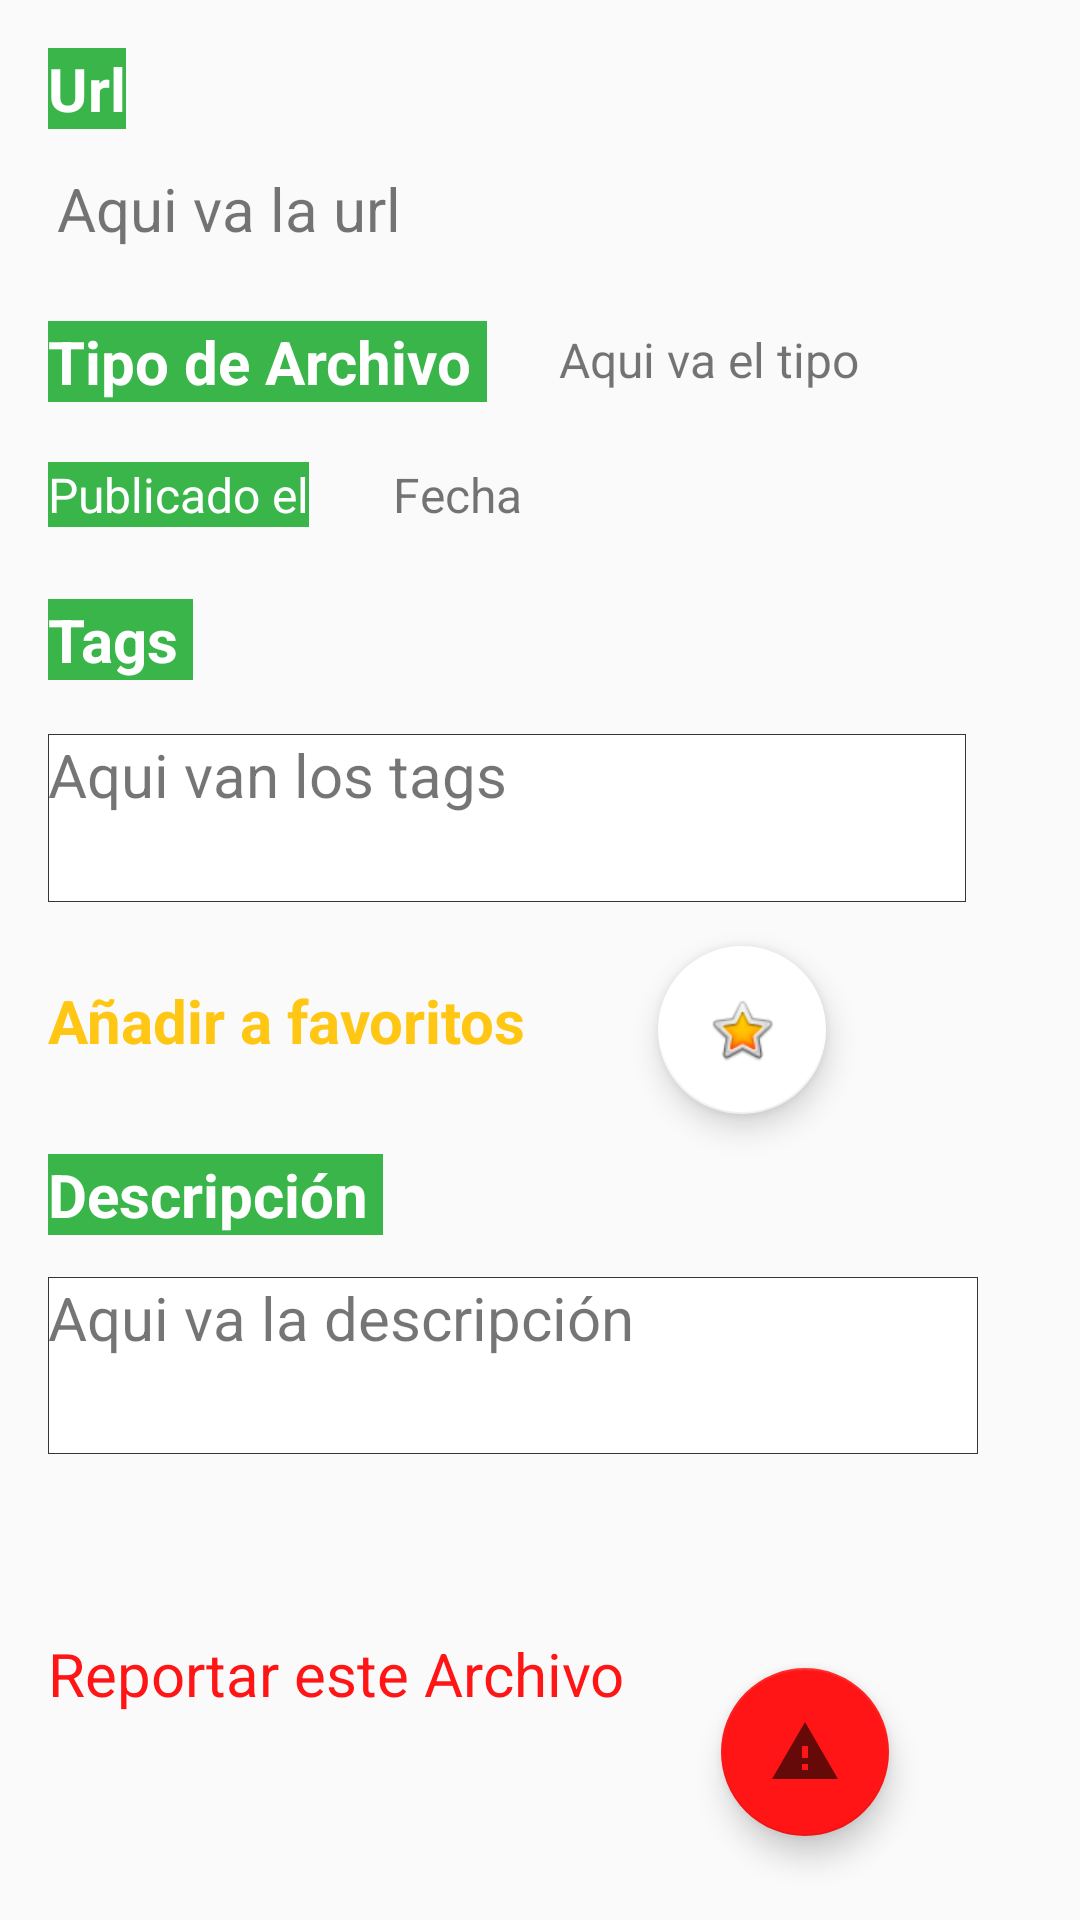

Locate icon controls on the screen. Image size 1080×1920, boxes as (x1, y1, x2, y2).
star on: (660, 1001, 773, 1060)
